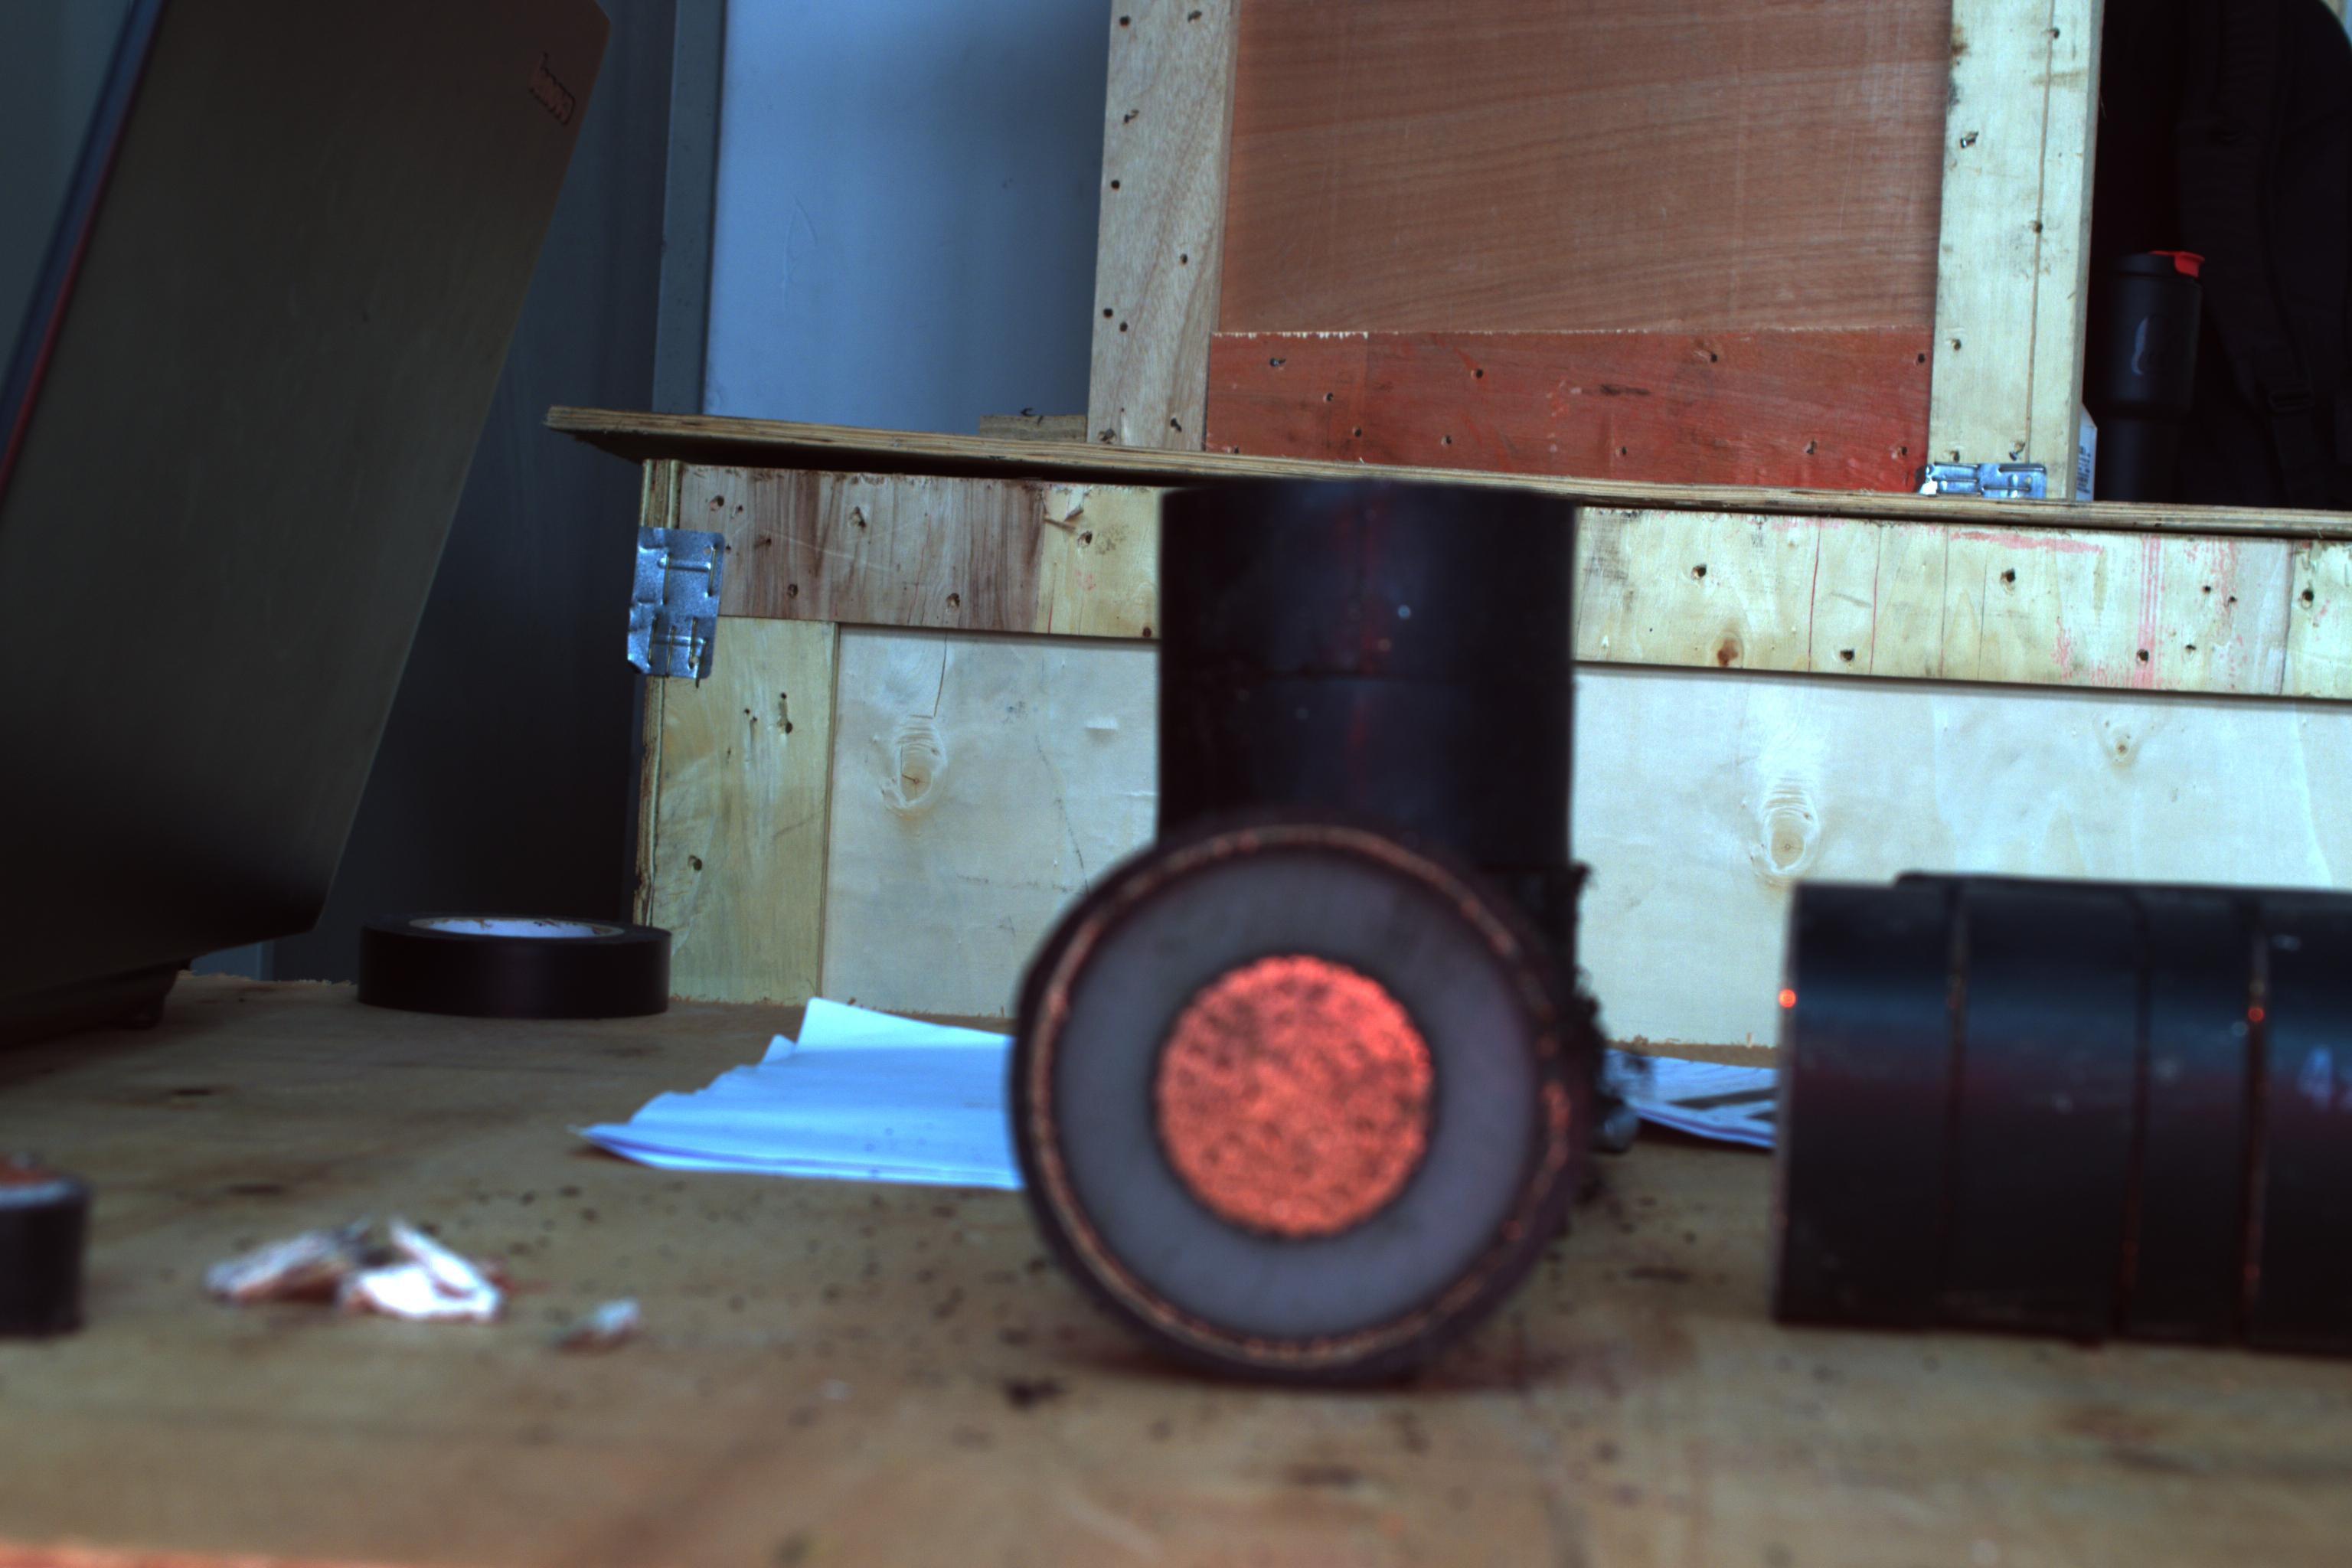YJV_26_35kV_1x630: (1008, 840, 1605, 1370)
